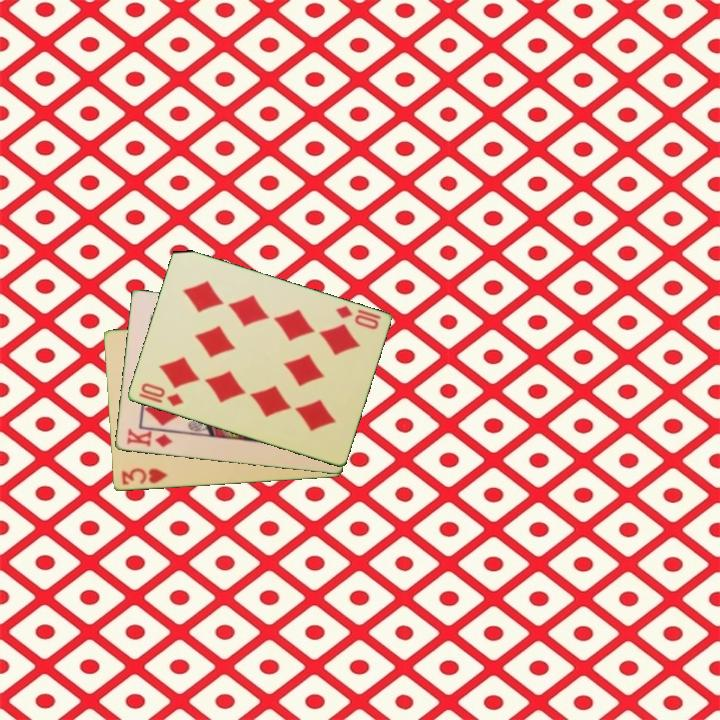10d: (332, 302, 383, 333), (137, 379, 186, 410)
3h: (118, 465, 170, 488)
Kd: (123, 425, 175, 450)
